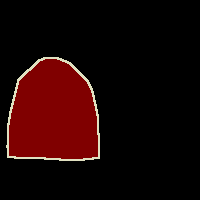hat: (7, 57, 99, 160)
